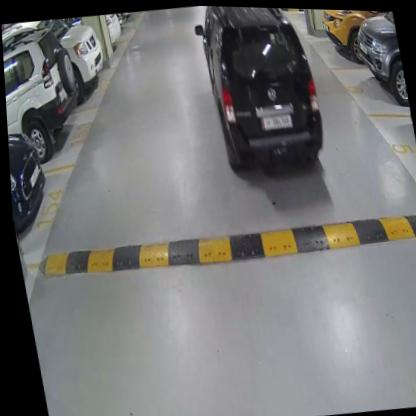np: (258, 110, 291, 129)
